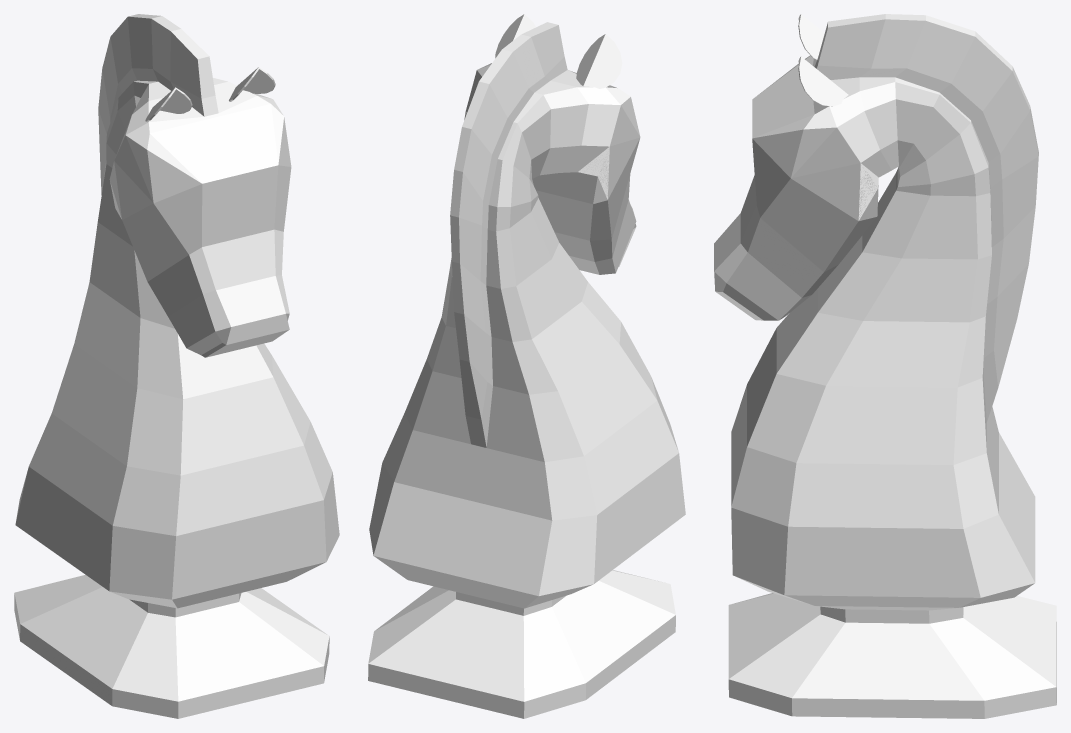
Rendered from white_horse.gltf.
The picture shows the model from 3 angles, left to right: view 1: azimuth 30°, elevation 25°; view 2: azimuth 150°, elevation 25°; view 3: azimuth 270°, elevation 25°; orthographic projection. The views are drawn at different scales.
Visible parts, largest first — view 1: Simple Horse.w; view 2: Simple Horse.w; view 3: Simple Horse.w.
Boxes of the visible parts, box(x1,y1,x2,y2) form: Simple Horse.w: box(14, 14, 339, 718); Simple Horse.w: box(368, 14, 685, 718); Simple Horse.w: box(714, 14, 1056, 718).
Bounding box in the file's own units: 0.5814 × 1.5 × 0.7173.
Materials: 1 (1 with a texture image).
